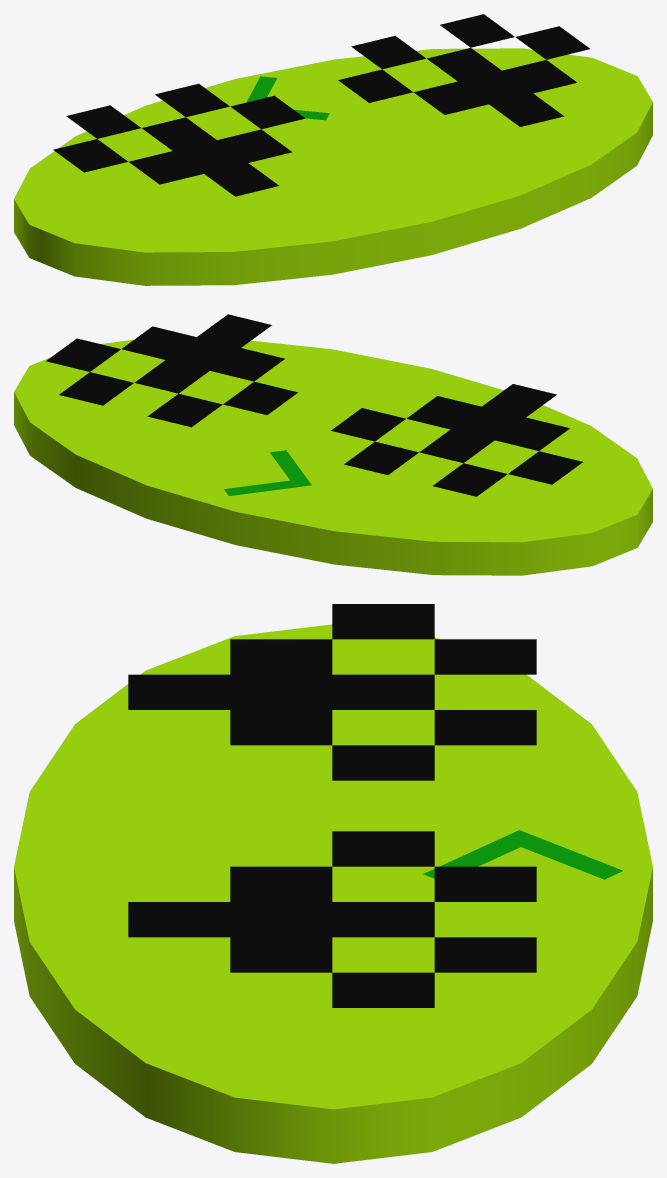
Rendered from supersizeMeObj.fbx.
3 renders of one model, top to bottom at view 1: azimuth 30°, elevation 25°; view 2: azimuth 150°, elevation 25°; view 3: azimuth 270°, elevation 25°, orthographic. The views are drawn at different scales.
Visible parts, largest first — view 1: supersizeMeObj; view 2: supersizeMeObj; view 3: supersizeMeObj.
Boxes of the visible parts, x1=… form: supersizeMeObj: x1=14, y1=14, x2=652, y2=285; supersizeMeObj: x1=14, y1=314, x2=652, y2=575; supersizeMeObj: x1=14, y1=604, x2=652, y2=1163.
Bounding box in the file's own units: 0.6115 × 0.0694 × 0.3403.
